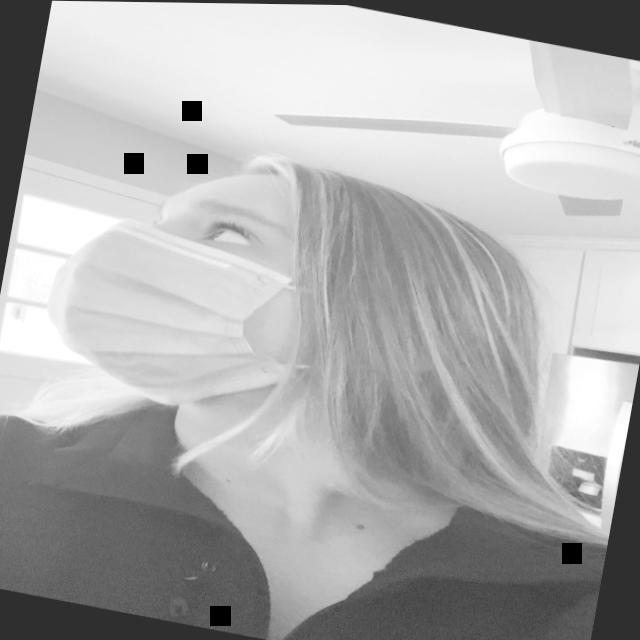Mask: (33, 132, 330, 424)
